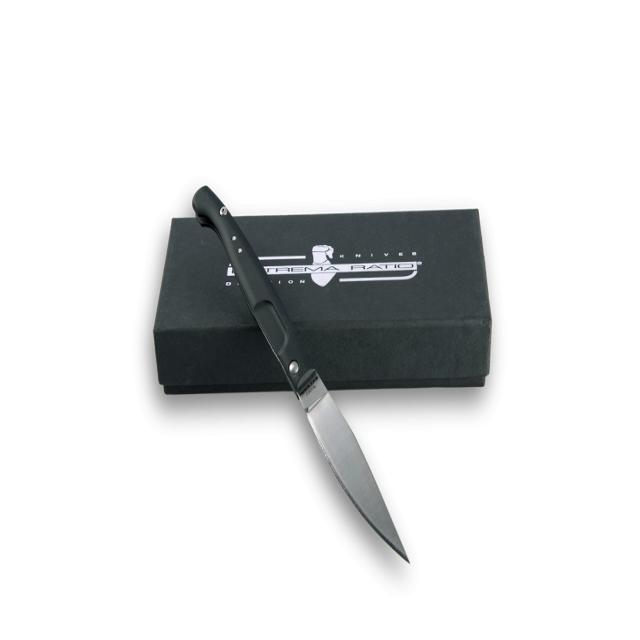knife: (192, 182, 414, 569)
